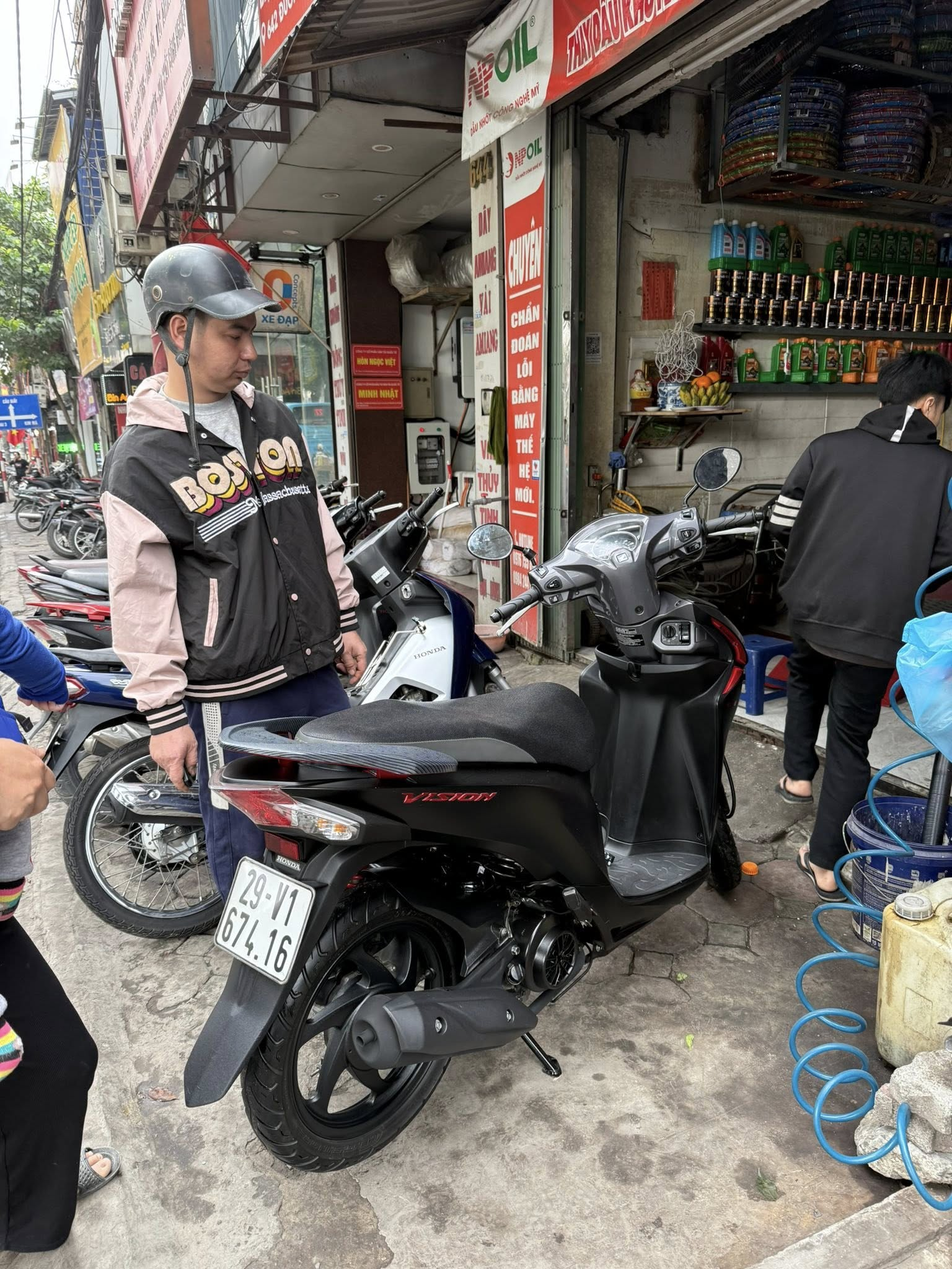bien_so: (208, 848, 321, 990)
